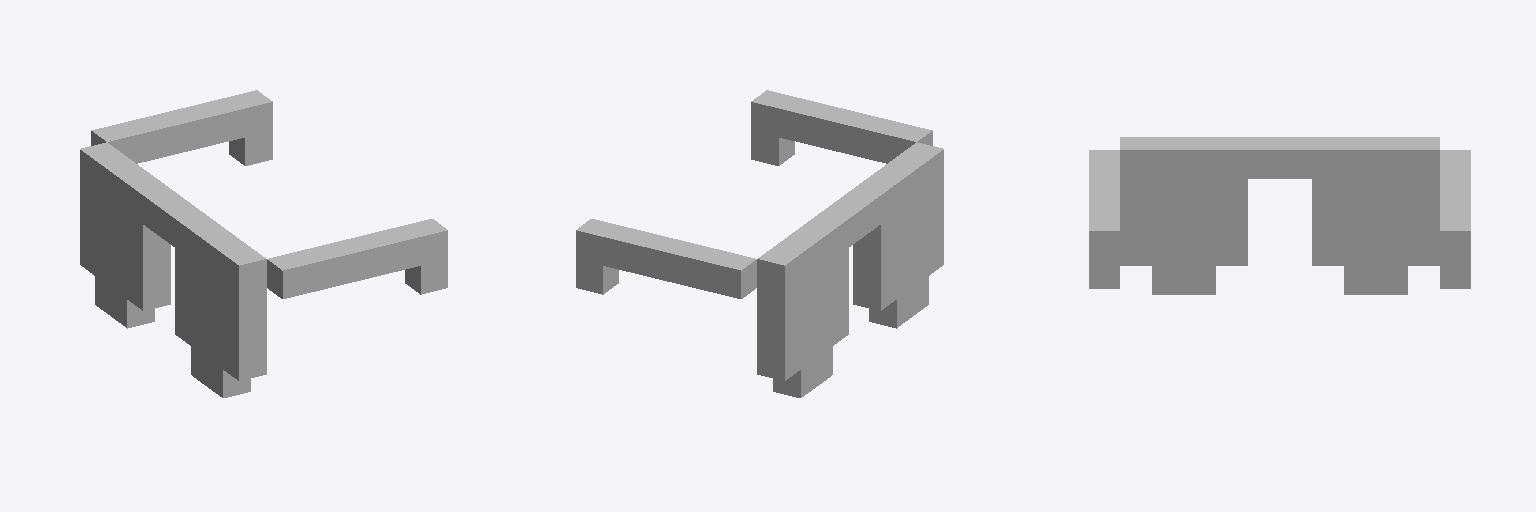
The model's file is Glasses.obj.
3 views of the same model, side by side, from view 1: azimuth 30°, elevation 25°; view 2: azimuth 150°, elevation 25°; view 3: azimuth 270°, elevation 25° (orthographic).
Parts seen in each view (by area): view 1: object 1; view 2: object 1; view 3: object 1.
Part boxes in pixels (x1,y1,x2,y2): object 1: (80, 90, 447, 397); object 1: (576, 90, 943, 397); object 1: (1089, 137, 1470, 294).
Bounding box in the file's own units: 0.7 × 0.5 × 1.2.